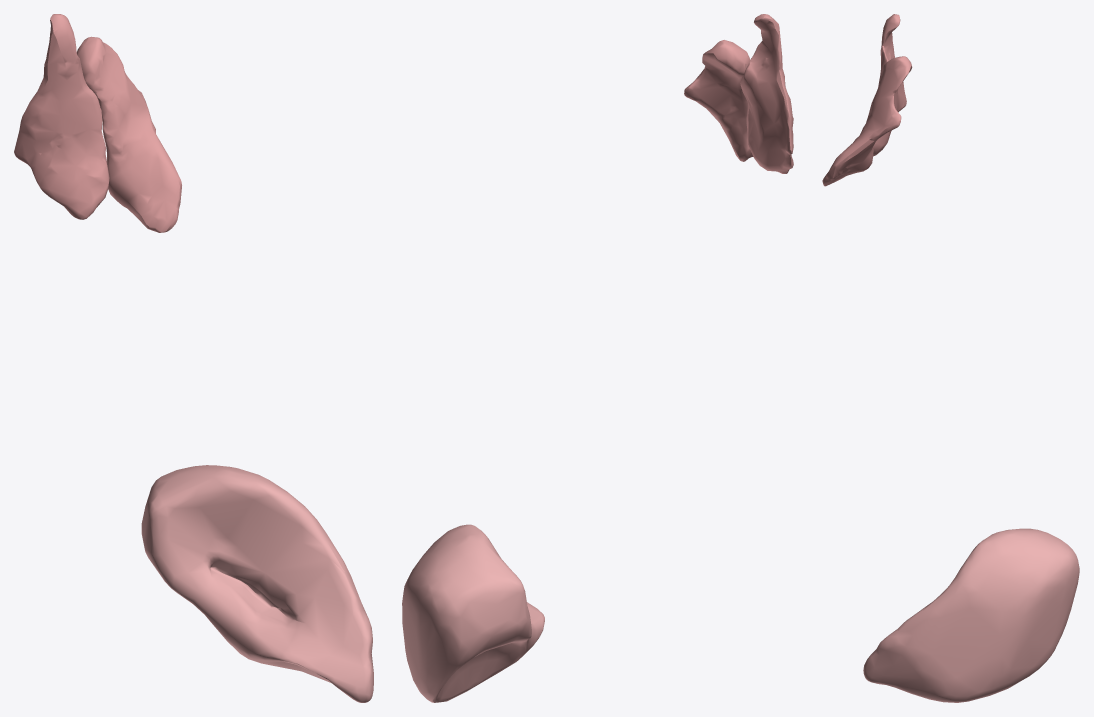
File: lymphatic.v1.glb
3 views of the same model, side by side, from view 1: azimuth 30°, elevation 25°; view 2: azimuth 150°, elevation 25°; view 3: azimuth 270°, elevation 25° (orthographic). The views are drawn at different scales.
Visible parts, largest first — view 1: spleen, right_lobe_of_thymus, left_lobe_of_thymus; view 2: spleen, right_lobe_of_thymus, left_lobe_of_thymus; view 3: spleen, left_lobe_of_thymus, right_lobe_of_thymus.
Part boxes in pixels (bbox=[...]): spleen: bbox=[141, 465, 373, 702]; right_lobe_of_thymus: bbox=[14, 14, 109, 219]; left_lobe_of_thymus: bbox=[76, 36, 181, 232]; spleen: bbox=[402, 524, 544, 702]; right_lobe_of_thymus: bbox=[740, 14, 793, 173]; left_lobe_of_thymus: bbox=[684, 40, 753, 161]; spleen: bbox=[863, 528, 1079, 702]; left_lobe_of_thymus: bbox=[822, 56, 912, 186]; right_lobe_of_thymus: bbox=[873, 14, 906, 156].
Bounding box in the file's own units: 0.1386 × 0.2781 × 0.1131.
